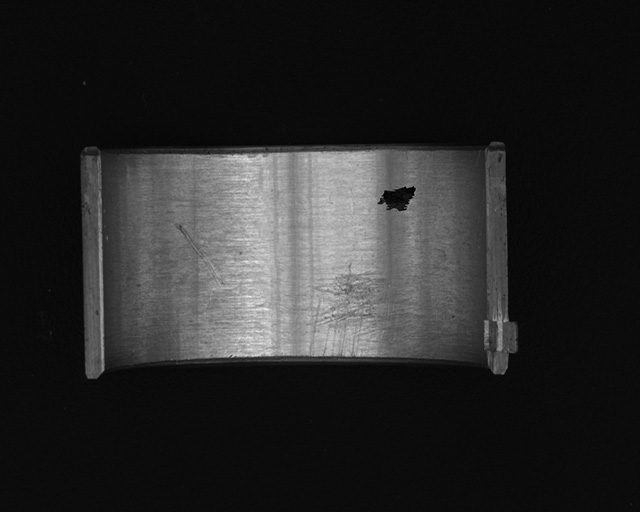blot: (376, 185, 417, 212)
nick: (174, 223, 222, 285)
scratch: (310, 263, 438, 362)
